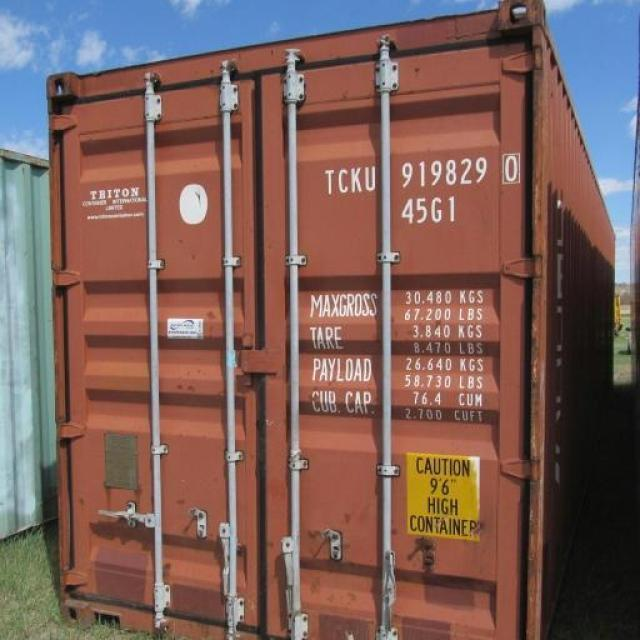ISO: (401, 198, 461, 225)
container_number: (326, 154, 518, 193)
